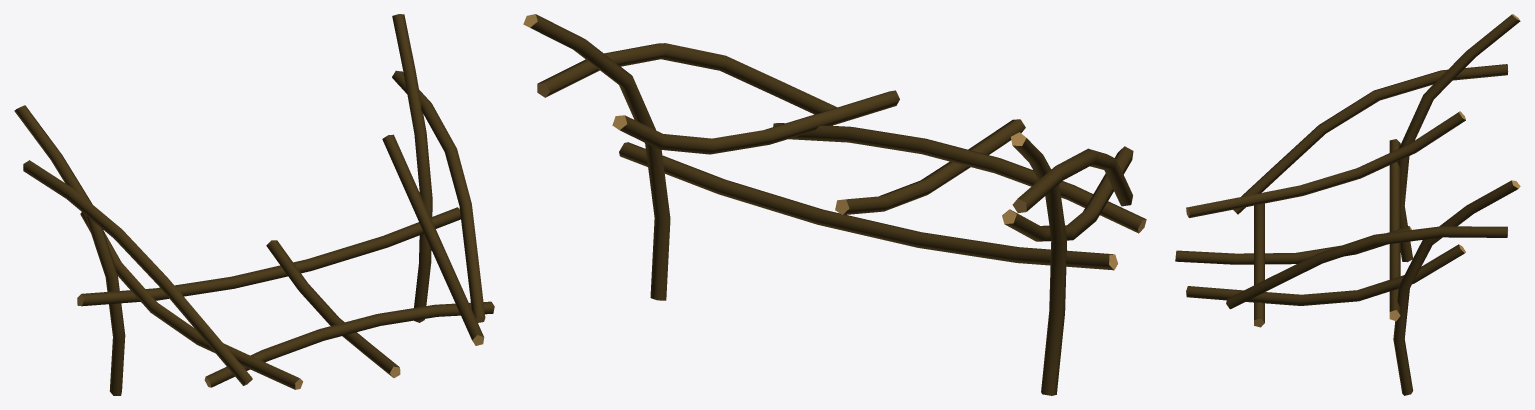
File: Westland_Bridge_Base.fbx
The picture shows the model from 3 angles, left to right: view 1: azimuth 30°, elevation 25°; view 2: azimuth 150°, elevation 25°; view 3: azimuth 270°, elevation 25°; orthographic projection. The views are drawn at different scales.
Parts seen in each view (by area): view 1: Westland_Bridge_Base; view 2: Westland_Bridge_Base; view 3: Westland_Bridge_Base.
Boxes of the visible parts, box(x1,y1,x2,y2) form: Westland_Bridge_Base: box(14, 14, 494, 395); Westland_Bridge_Base: box(523, 14, 1146, 395); Westland_Bridge_Base: box(1175, 14, 1520, 395).
Bounding box in the file's own units: 614 × 383 × 519.
